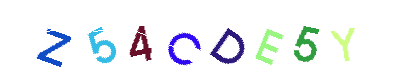4: (100, 0, 180, 80)
5: (72, 0, 152, 80), (259, 0, 339, 80)
C: (131, 0, 211, 80)
D: (160, 0, 240, 80)
E: (188, 0, 268, 80)
Y: (266, 0, 346, 80)
Z: (60, 0, 140, 80)
